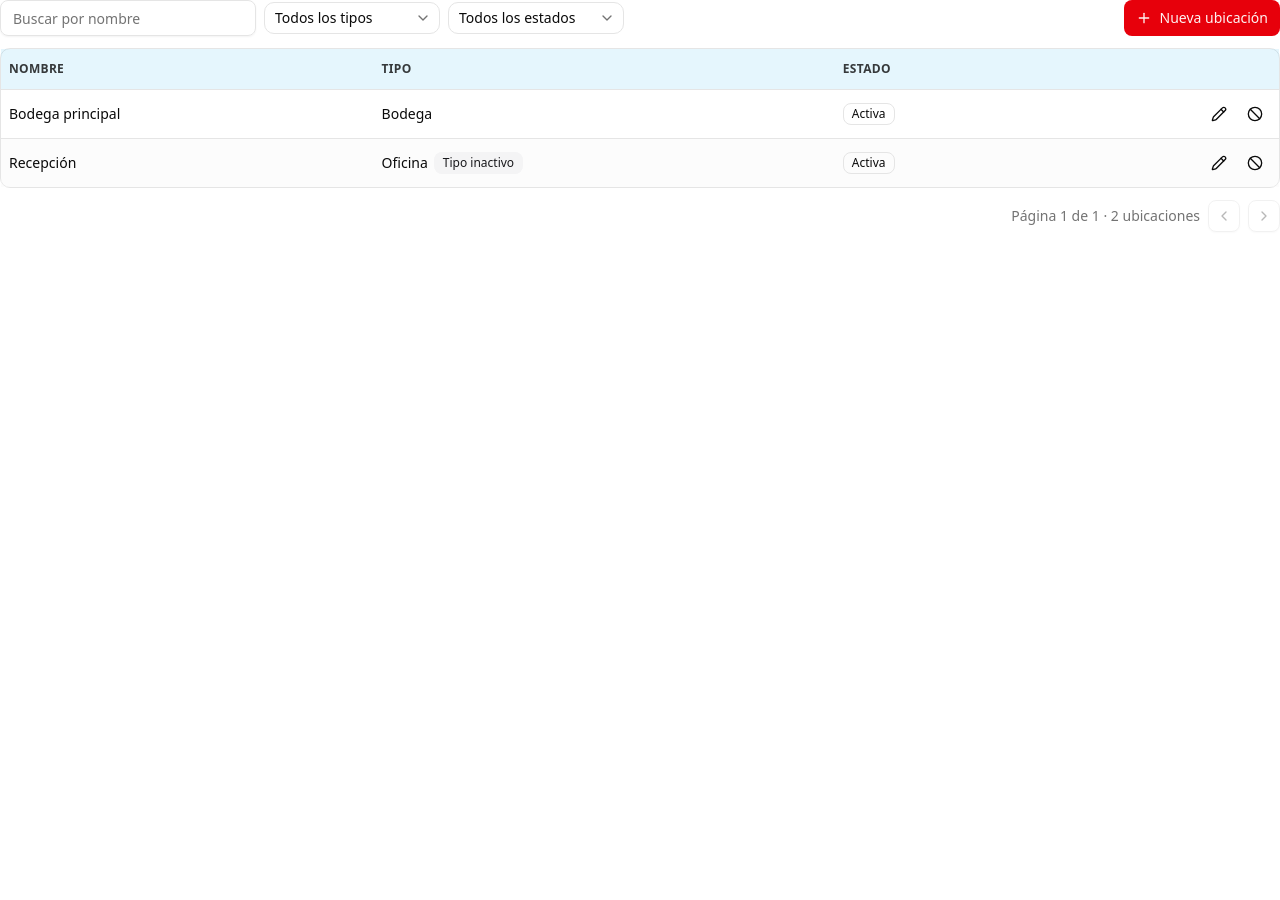
Test: LocationsTab (US3, FR-004, RN-002) › crea una ubicación con un tipo activo (US3 escenario 2)
Later steps or results of the test are not shown.
expect the row "Recepción Oficina Tipo inactivo Activa" is shown: met, box left=1, top=138, right=1279, bottom=186
Click the button "Nueva ubicación" at (1202, 18), box left=1124, top=0, right=1279, bottom=36
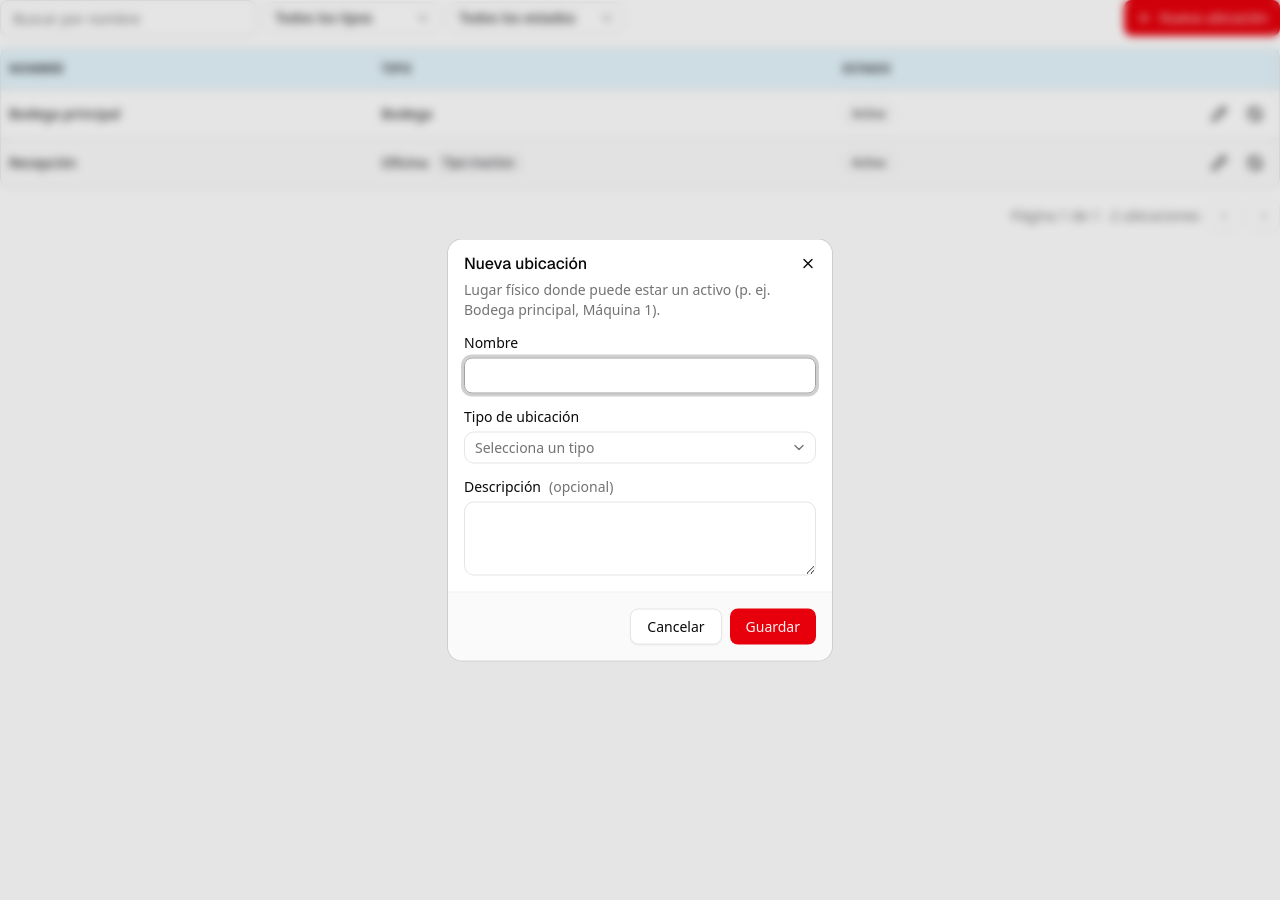
Type "Máquina 1" into the field labelled "Nombre" at (640, 376), box left=464, top=358, right=816, bottom=394
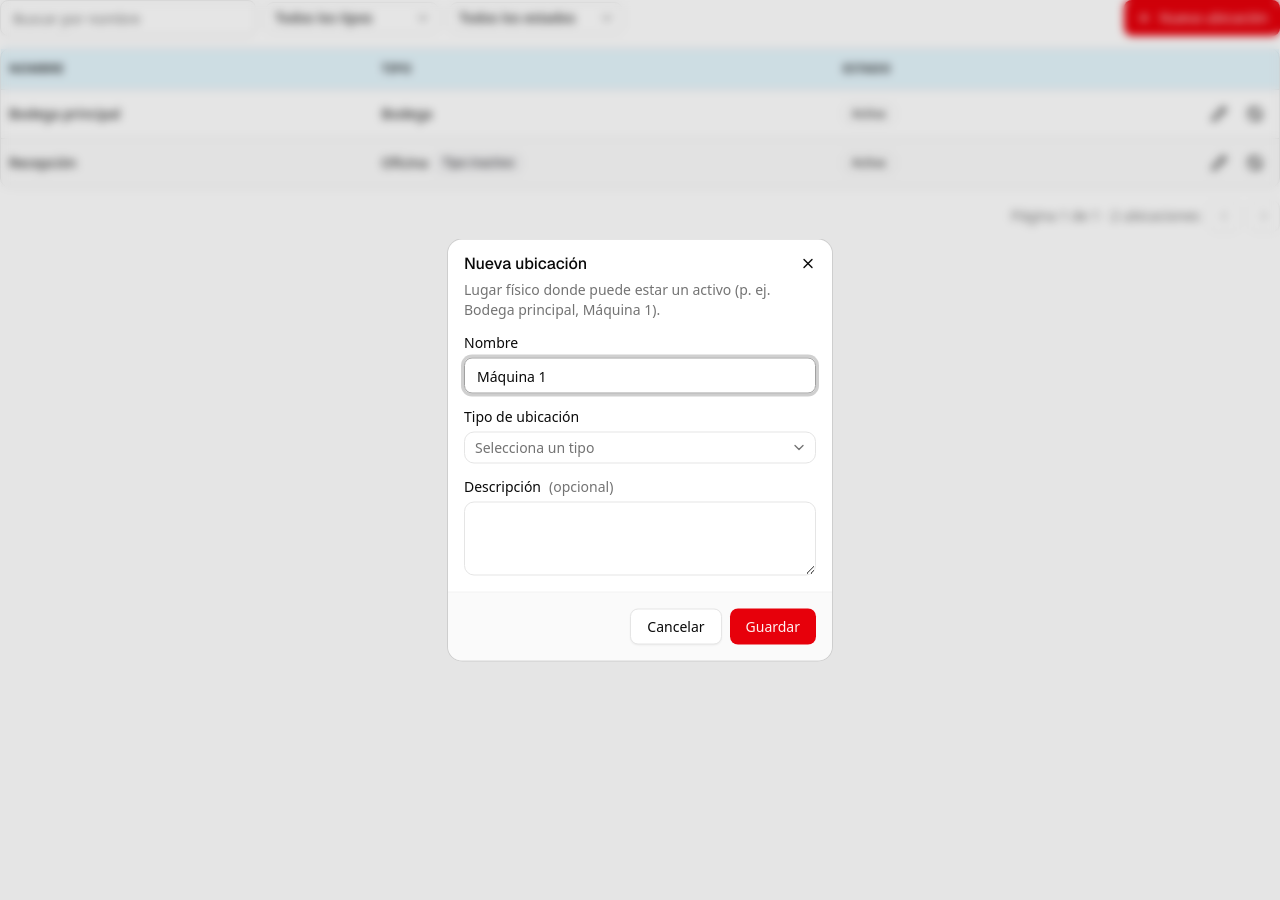
Click the dropdown named "Tipo de ubicación" at (535, 447), box left=464, top=432, right=816, bottom=464
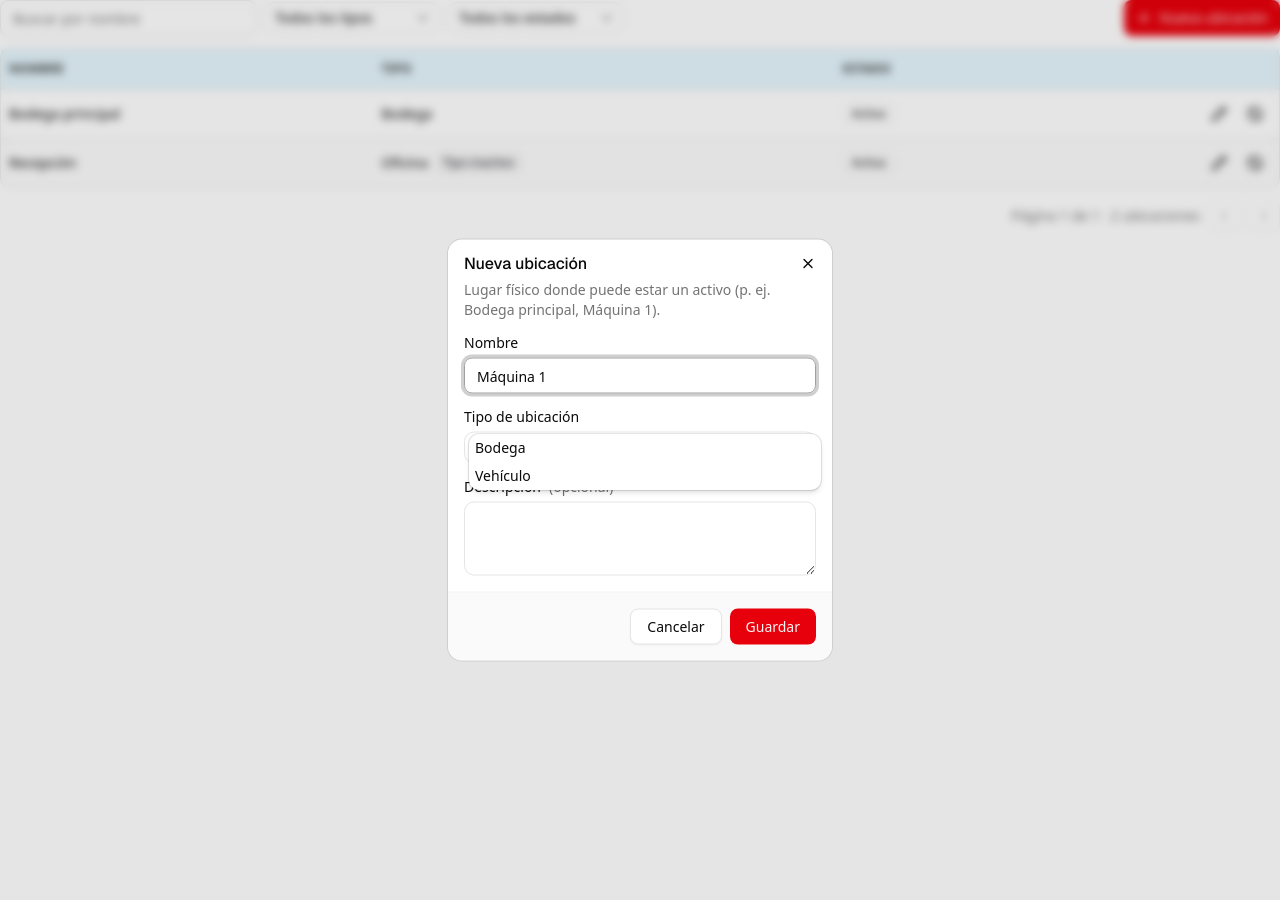
expect the option "Vehículo" is shown: met, box left=475, top=466, right=531, bottom=484
